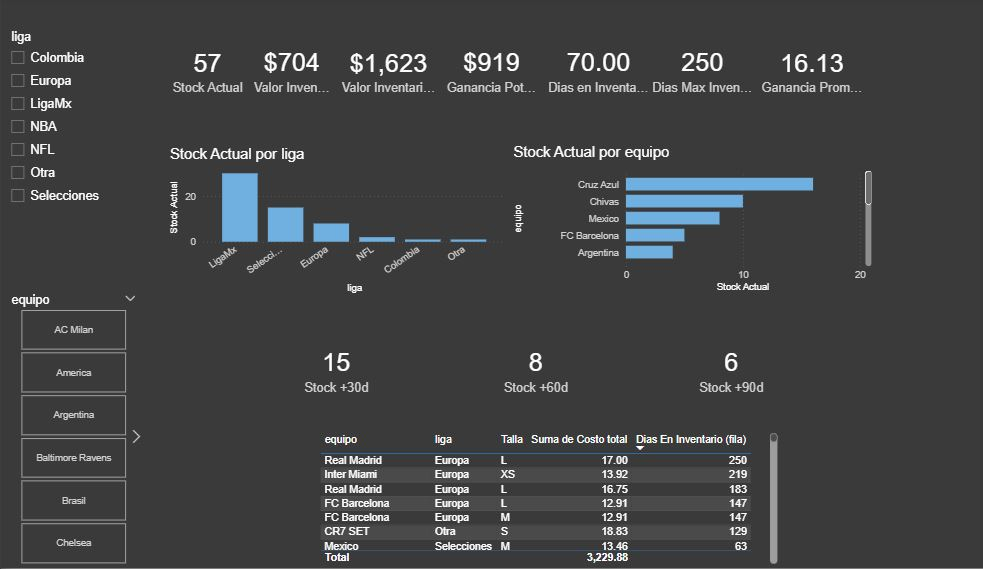

This screenshot's page, from the dashboard's own definition file:
{"tool":"powerbi","page":{"name":"Inventory Analysis","canvas":[1280,720],"ordinal":2},"visuals":[{"type":"card","fields":{"Values":["KPIS Base.Ganancia Promedio por Jersey Vendido"]},"box":[952.4,34,138,113.4],"z":0},{"type":"card","fields":{"Values":["KPIS Base.Stock Actual"]},"box":[207.9,34.2,104.1,113.2],"z":0,"group":"g1"},{"type":"card","fields":{"Values":["KPIS Base.Ganancia Potencial Estimada (Promedio)"]},"box":[554.6,34,127.9,112.9],"z":1000,"group":"g1"},{"type":"columnChart","fields":{"Y":["KPIS Base.Stock Actual"],"Category":["data_jerseys_cleaned.liga"]},"box":[208.8,186.2,432.5,191.2],"z":1000},{"type":"card","fields":{"Values":["KPIS Base.Valor Inventario (Costo)"]},"box":[312.6,34.5,108.9,112.8],"z":2000,"group":"g1"},{"type":"tableEx","fields":{"Values":["data_jerseys_cleaned.equipo","data_jerseys_cleaned.liga","data_jerseys_cleaned.Talla","Sum(data_jerseys_cleaned.Costo total)","data_jerseys_cleaned.Dias En Inventario (fila)"]},"box":[397.5,543.8,586.2,175],"z":2000},{"type":"card","fields":{"Values":["KPIS Base.Valor Inventario (Venta Estimada)"]},"box":[422,34.2,133.1,113.2],"z":3000,"group":"g1"},{"type":"card","fields":{"Values":["KPIS Base.Stock +30d"]},"box":[272.5,393.8,300,150],"z":3000},{"type":"card","fields":{"Values":["KPIS Base.Dias en Inventario Actual"]},"box":[682.5,34,140.7,112.9],"z":4000,"group":"g1"},{"type":"card","fields":{"Values":["KPIS Base.Stock +60d"]},"box":[523.8,393.8,300,150],"z":4000},{"type":"card","fields":{"Values":["KPIS Base.Dias Max Inventario"]},"box":[814.8,34.5,137.7,112.8],"z":5000,"group":"g1"},{"type":"card","fields":{"Values":["KPIS Base.Stock +90d"]},"box":[762.5,393.8,316.2,150],"z":5000},{"type":"slicer","fields":{"Values":["data_jerseys_cleaned.equipo"]},"box":[0,366.6,181.4,353.4],"z":6000},{"type":"slicer","fields":{"Values":["data_jerseys_cleaned.liga"]},"box":[0,35.9,164.4,277.8],"z":7000},{"type":"clusteredBarChart","fields":{"Category":["data_jerseys_cleaned.equipo"],"Y":["KPIS Base.Stock Actual"]},"box":[640.6,185.2,461.1,190.9],"z":8000},{"type":"group","id":"g1","title":"Grupo 1","box":[207.9,34,744.6,113.4],"z":9000}]}

Visuals, with their boxes in screenshot pixels (x1, y1, x2, y2), scaled from the page's 1280x720 canvas onto the 983x569 screenshot:
card - KPIS Base.Ganancia Promedio por Jersey Vendido: 731/27/837/116
card - KPIS Base.Stock Actual: 160/27/240/116
card - KPIS Base.Ganancia Potencial Estimada (Promedio): 426/27/524/116
columnChart - KPIS Base.Stock Actual x data_jerseys_cleaned.liga: 160/147/492/298
card - KPIS Base.Valor Inventario (Costo): 240/27/324/116
tableEx - data_jerseys_cleaned.equipo x data_jerseys_cleaned.liga: 305/430/755/568
card - KPIS Base.Valor Inventario (Venta Estimada): 324/27/426/116
card - KPIS Base.Stock +30d: 209/311/440/430
card - KPIS Base.Dias en Inventario Actual: 524/27/632/116
card - KPIS Base.Stock +60d: 402/311/633/430
card - KPIS Base.Dias Max Inventario: 626/27/731/116
card - KPIS Base.Stock +90d: 586/311/828/430
slicer - data_jerseys_cleaned.equipo: 0/290/139/568
slicer - data_jerseys_cleaned.liga: 0/28/126/248
clusteredBarChart - data_jerseys_cleaned.equipo x KPIS Base.Stock Actual: 492/146/846/297
"Grupo 1" group: 160/27/731/116
